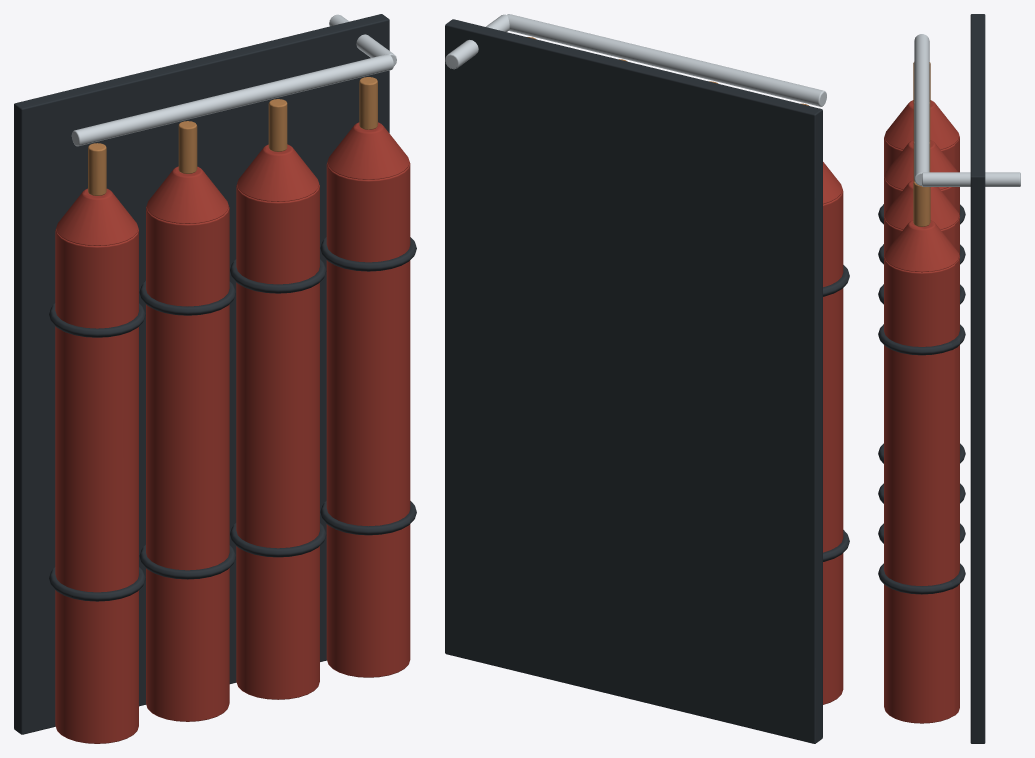
The model's file is Fire.glb.
The picture shows the model from 3 angles, left to right: view 1: azimuth 30°, elevation 25°; view 2: azimuth 150°, elevation 25°; view 3: azimuth 270°, elevation 25°; orthographic projection. The views are drawn at different scales.
Parts seen in each view (by area): view 1: Fire_manifold_and_frame, Cylinder_4, Cylinder_3, Cylinder_2, Cylinder_1; view 2: Fire_manifold_and_frame, Cylinder_1; view 3: Cylinder_4, Fire_manifold_and_frame, Cylinder_1, Cylinder_3, Cylinder_2.
Boxes of the visible parts, left/top/right/bottom form: Fire_manifold_and_frame: left=14, top=14, right=396, bottom=734; Cylinder_4: left=320, top=77, right=416, bottom=677; Cylinder_3: left=230, top=99, right=326, bottom=699; Cylinder_2: left=139, top=121, right=235, bottom=721; Cylinder_1: left=49, top=143, right=145, bottom=743; Fire_manifold_and_frame: left=445, top=14, right=826, bottom=743; Cylinder_1: left=800, top=103, right=849, bottom=704; Cylinder_4: left=878, top=181, right=959, bottom=723; Fire_manifold_and_frame: left=914, top=14, right=1020, bottom=743; Cylinder_1: left=878, top=62, right=959, bottom=463; Cylinder_3: left=878, top=142, right=959, bottom=543; Cylinder_2: left=878, top=102, right=957, bottom=503.
Bounding box in the file's own units: 1.17 × 1.9 × 0.4328.
